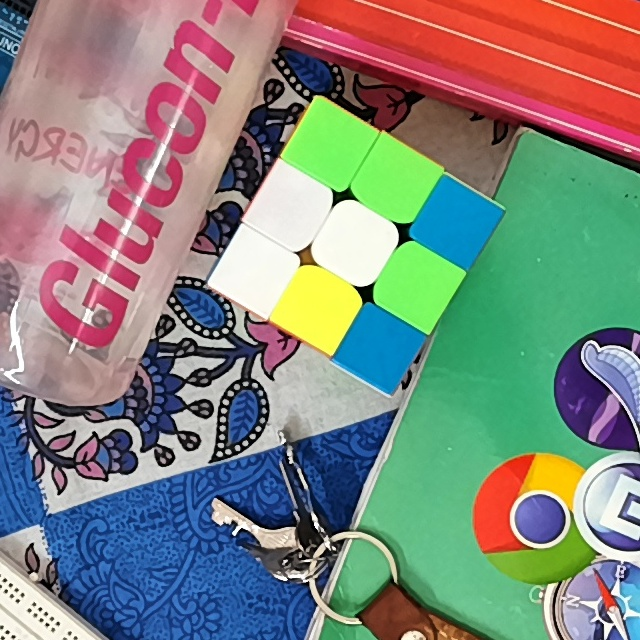tile: (294, 284, 343, 335), (429, 200, 481, 248), (369, 160, 418, 210), (392, 260, 440, 311), (331, 217, 382, 265), (356, 324, 407, 372), (305, 122, 355, 170), (263, 185, 314, 232), (231, 249, 276, 297)
